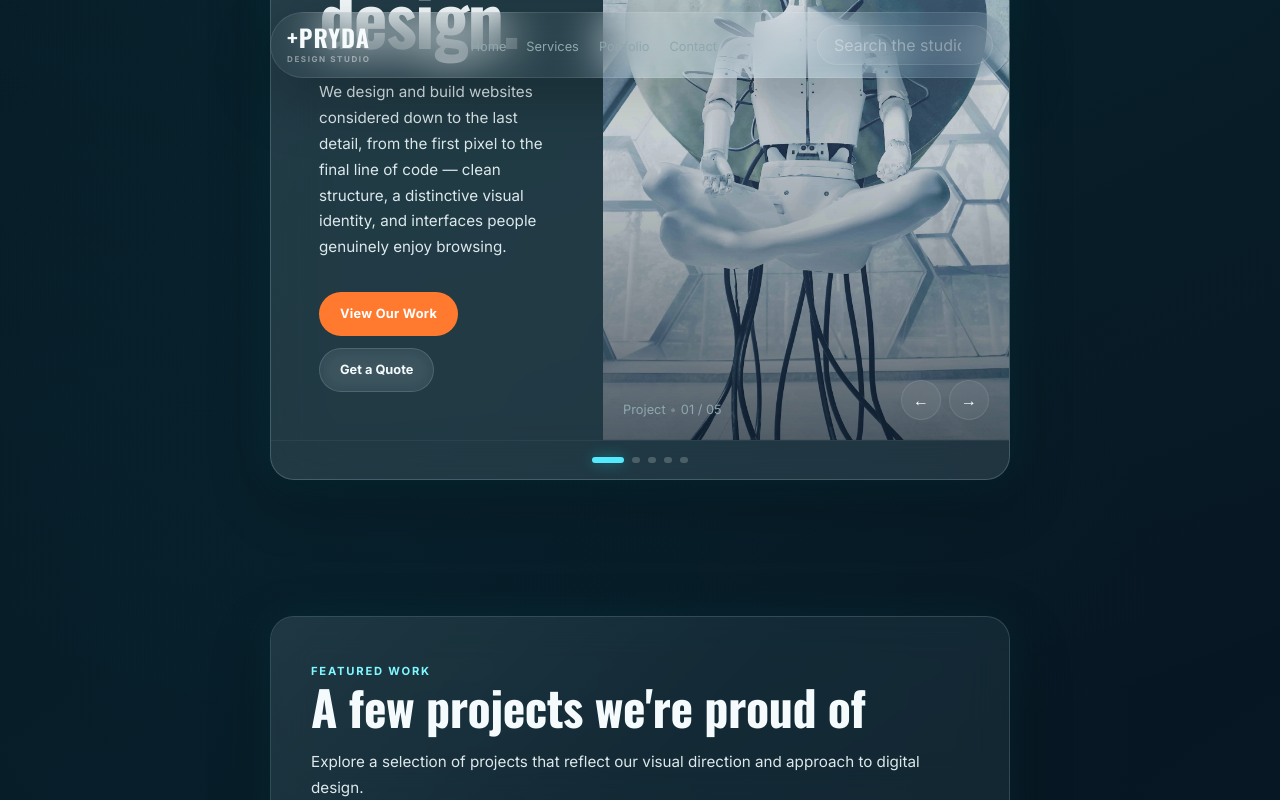
Test case: hero carousel › advances with the next/previous buttons
(page scrolled)
Expected: the text "Project•01 / 05" is shown, [623,402,722,417]
Click the button named "Next image" at x=969, y=400, box [949,380,989,420]
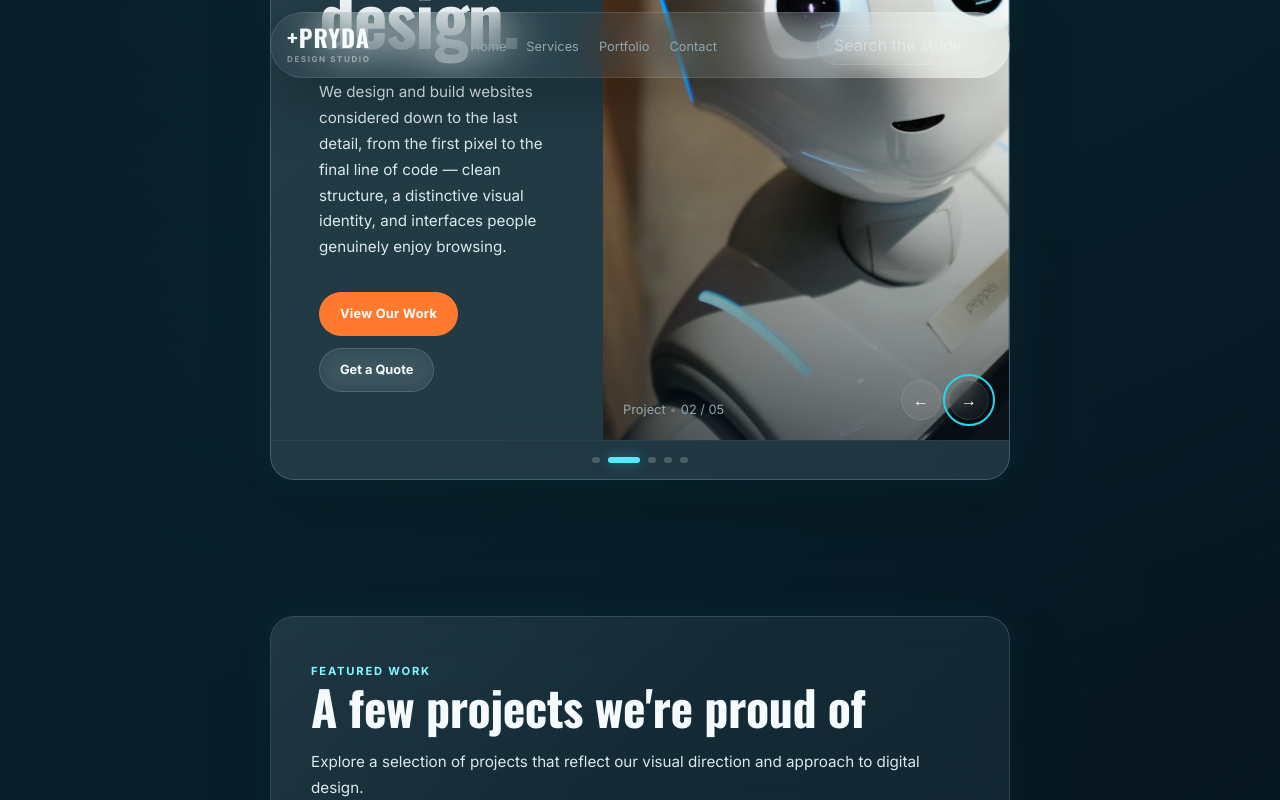
Expected: the text "Project•02 / 05" is shown, [623,402,724,417]
Click the button named "Previous image" at x=921, y=400, box [901,380,941,420]
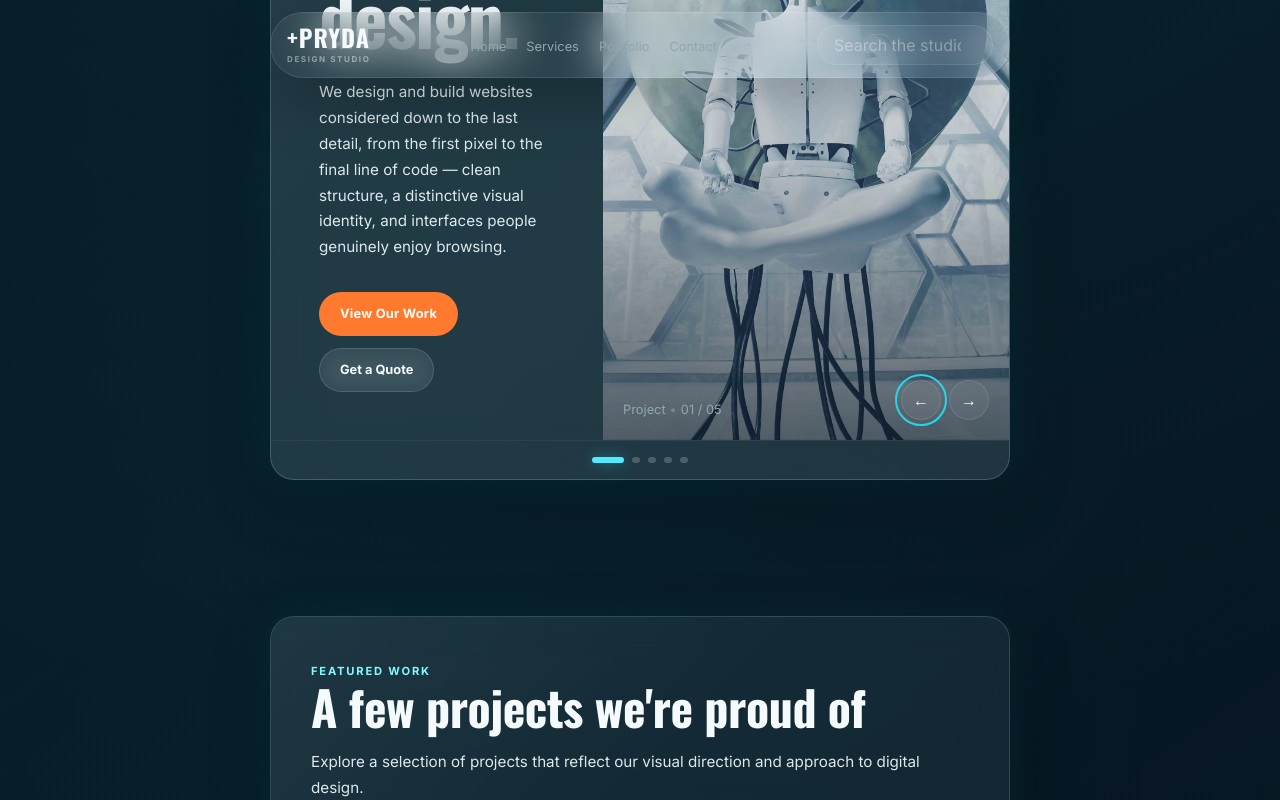
Expected: the text "Project•01 / 05" is shown, [623,402,722,417]
Note: previous from the first slide wraps to the last one
Click the button named "Previous image" at x=921, y=400, box [901,380,941,420]
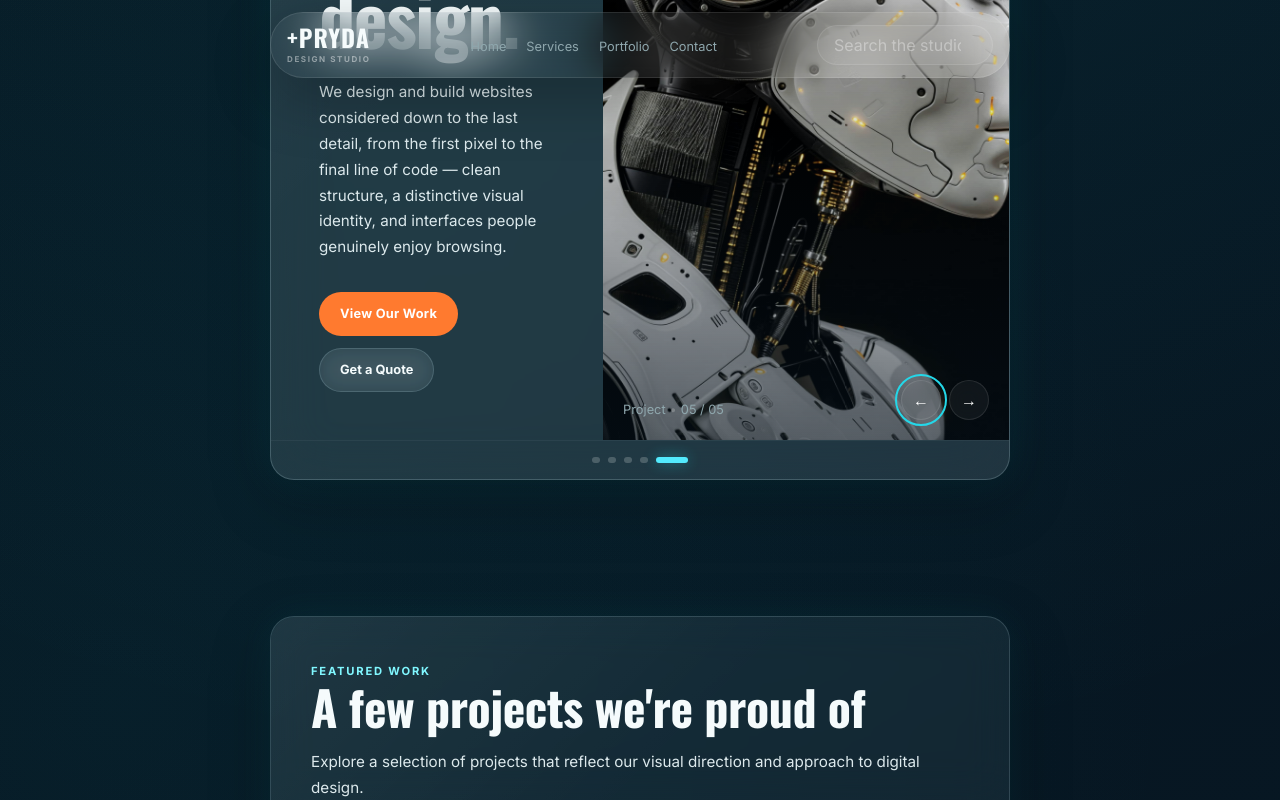
Expected: the text "Project•05 / 05" is shown, [623,402,724,417]
